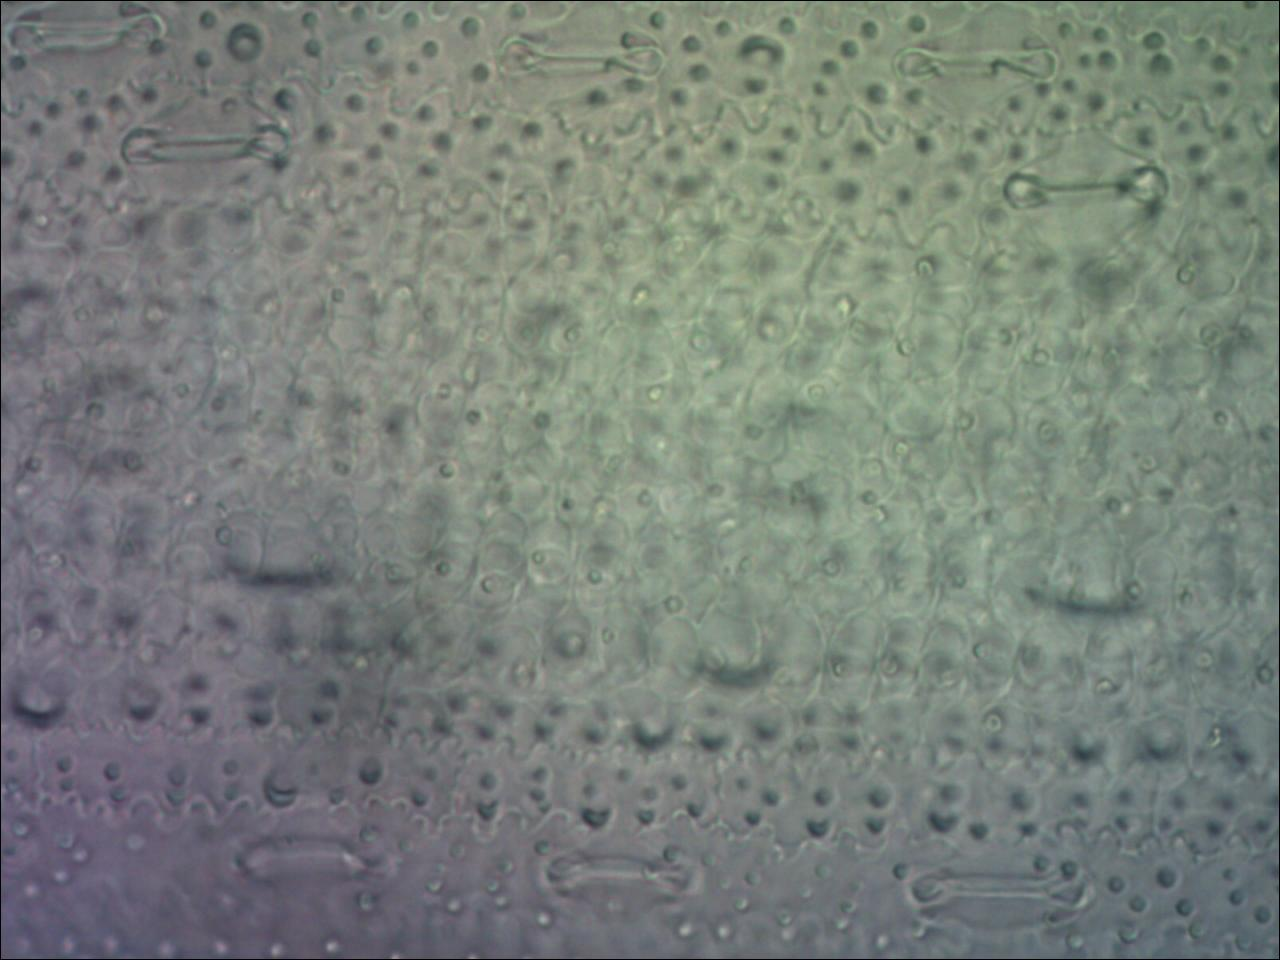stoma: (989, 127, 1171, 264), (222, 798, 405, 926), (478, 3, 675, 117), (903, 834, 1095, 941), (888, 9, 1065, 123), (115, 93, 287, 205), (3, 1, 171, 96), (535, 820, 696, 919)
